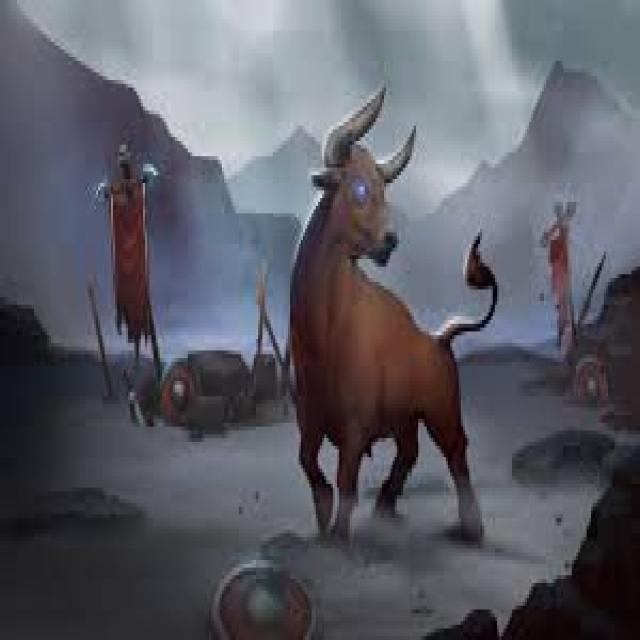Ox: (271, 79, 508, 545)
